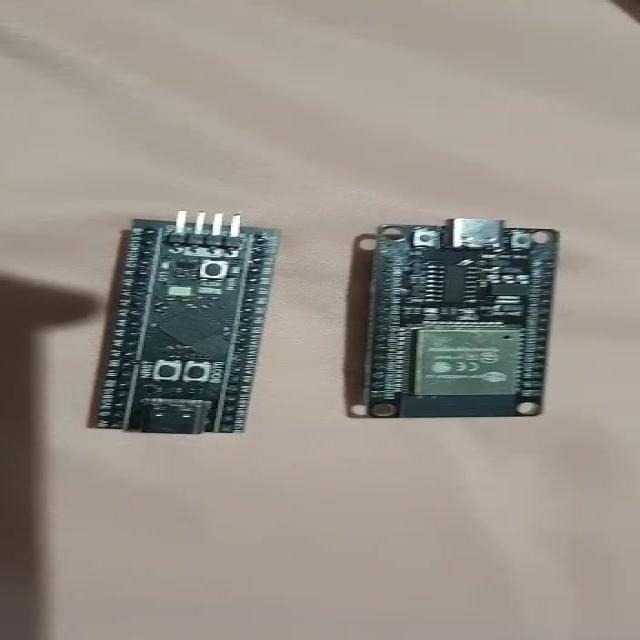ESP32: (361, 219, 558, 418)
STM32: (90, 212, 279, 435)
